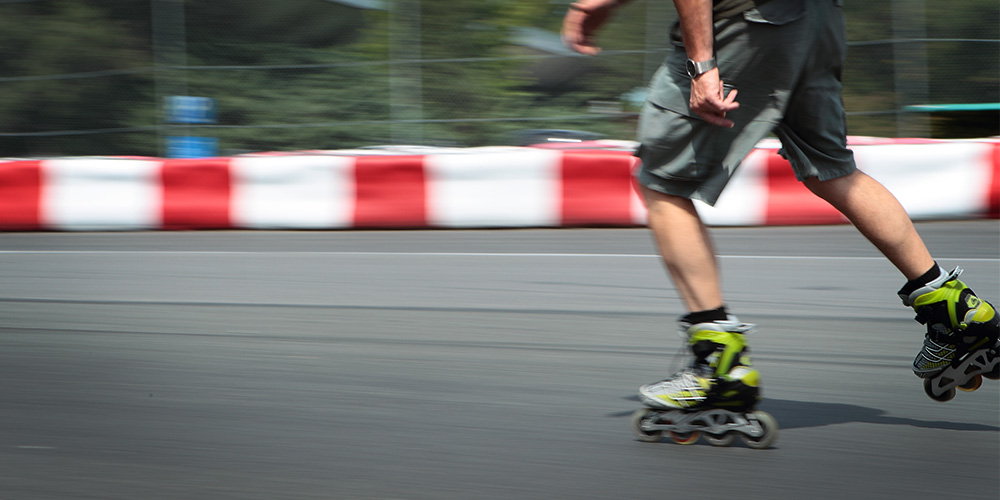roller_blade: (631, 322, 781, 445), (900, 287, 1000, 401)
